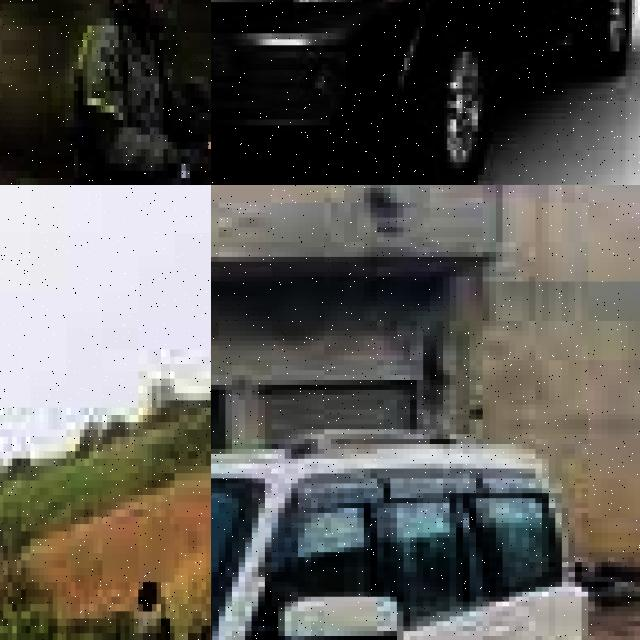bike: (0, 62, 211, 185)
car: (211, 419, 601, 640), (211, 0, 634, 185)
